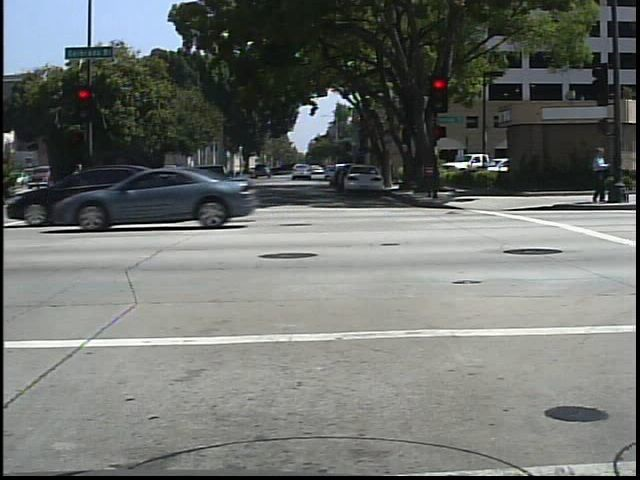person: (587, 144, 613, 209), (63, 157, 90, 184)
